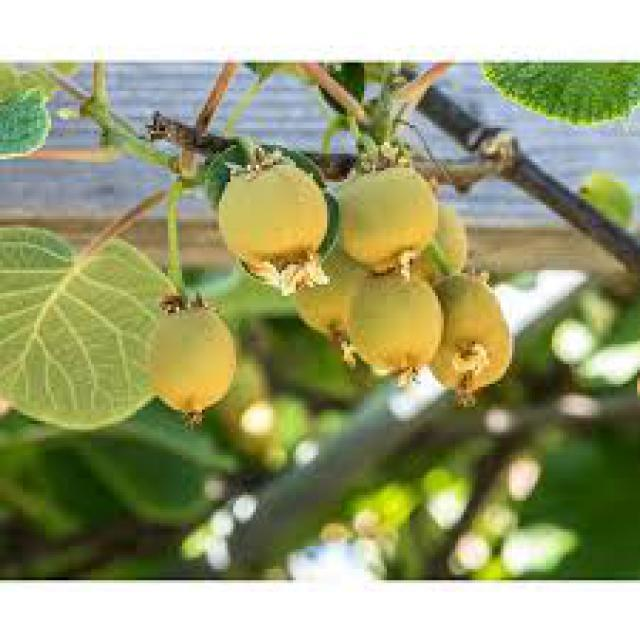kiwi: (214, 160, 331, 274), (425, 280, 519, 403), (143, 297, 234, 420), (371, 161, 408, 269), (337, 326, 445, 331)
